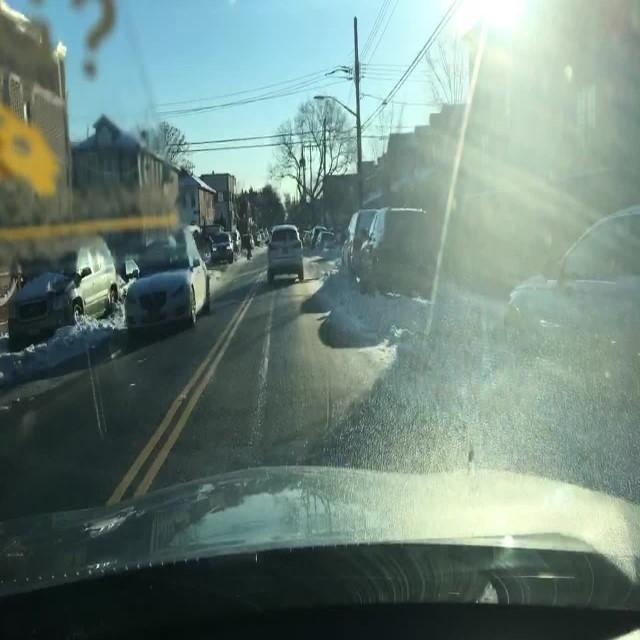normal: (114, 224, 191, 343), (253, 221, 326, 303)
